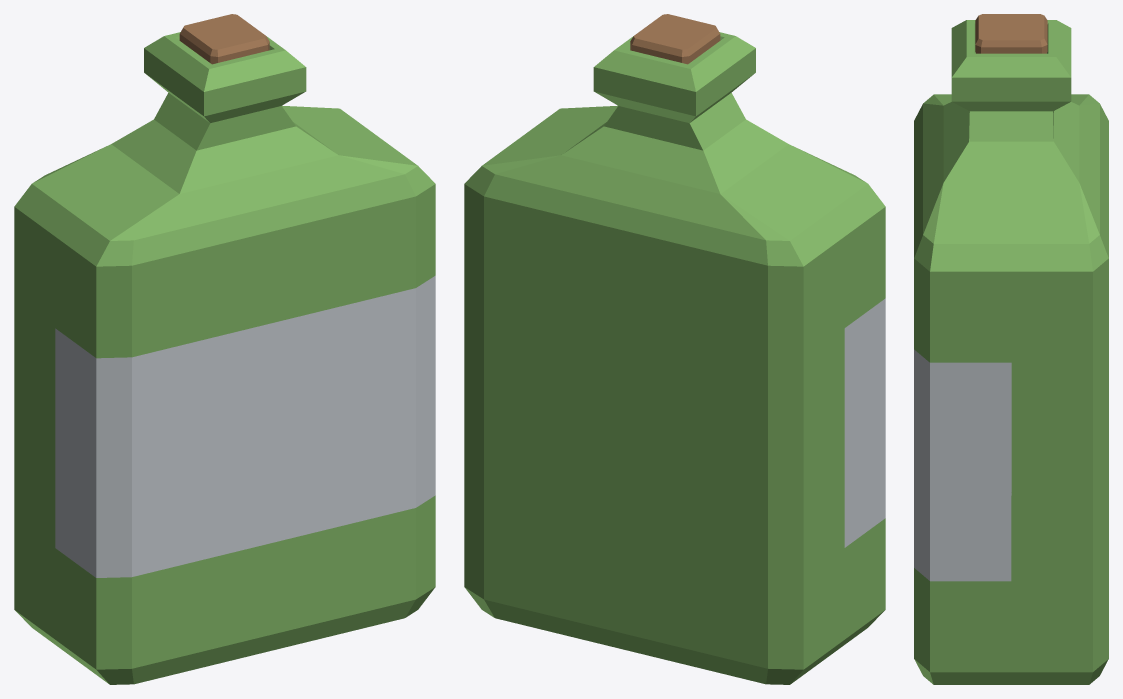
The model's file is Green_Potion_5(Label).fbx.
3 renders of one model, left to right at view 1: azimuth 30°, elevation 25°; view 2: azimuth 150°, elevation 25°; view 3: azimuth 270°, elevation 25°, orthographic.
Parts seen in each view (by area): view 1: Green_Potion_5(Label); view 2: Green_Potion_5(Label); view 3: Green_Potion_5(Label).
Part boxes in pixels (bbox=[...]): Green_Potion_5(Label): bbox=[14, 14, 435, 684]; Green_Potion_5(Label): bbox=[464, 14, 885, 684]; Green_Potion_5(Label): bbox=[914, 14, 1108, 684].
Bounding box in the file's own units: 25.6 × 42.3 × 12.8.
